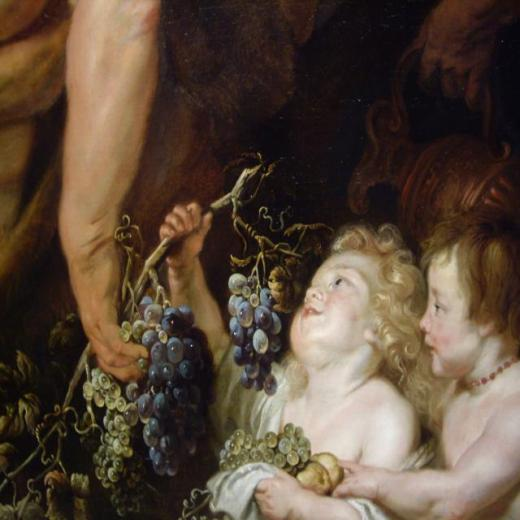Orange: (82, 297, 202, 520), (229, 275, 283, 395), (221, 423, 312, 475)
